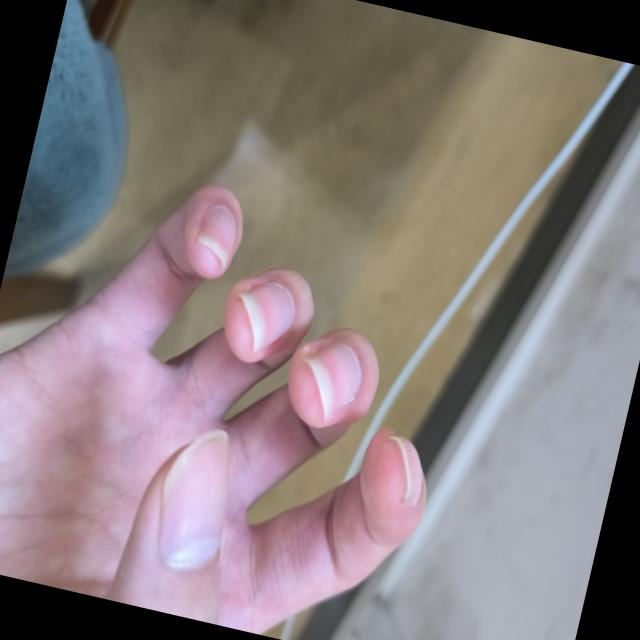Nail: (158, 431, 228, 568), (301, 342, 358, 419), (236, 282, 291, 352), (196, 206, 235, 270), (389, 436, 421, 505)
